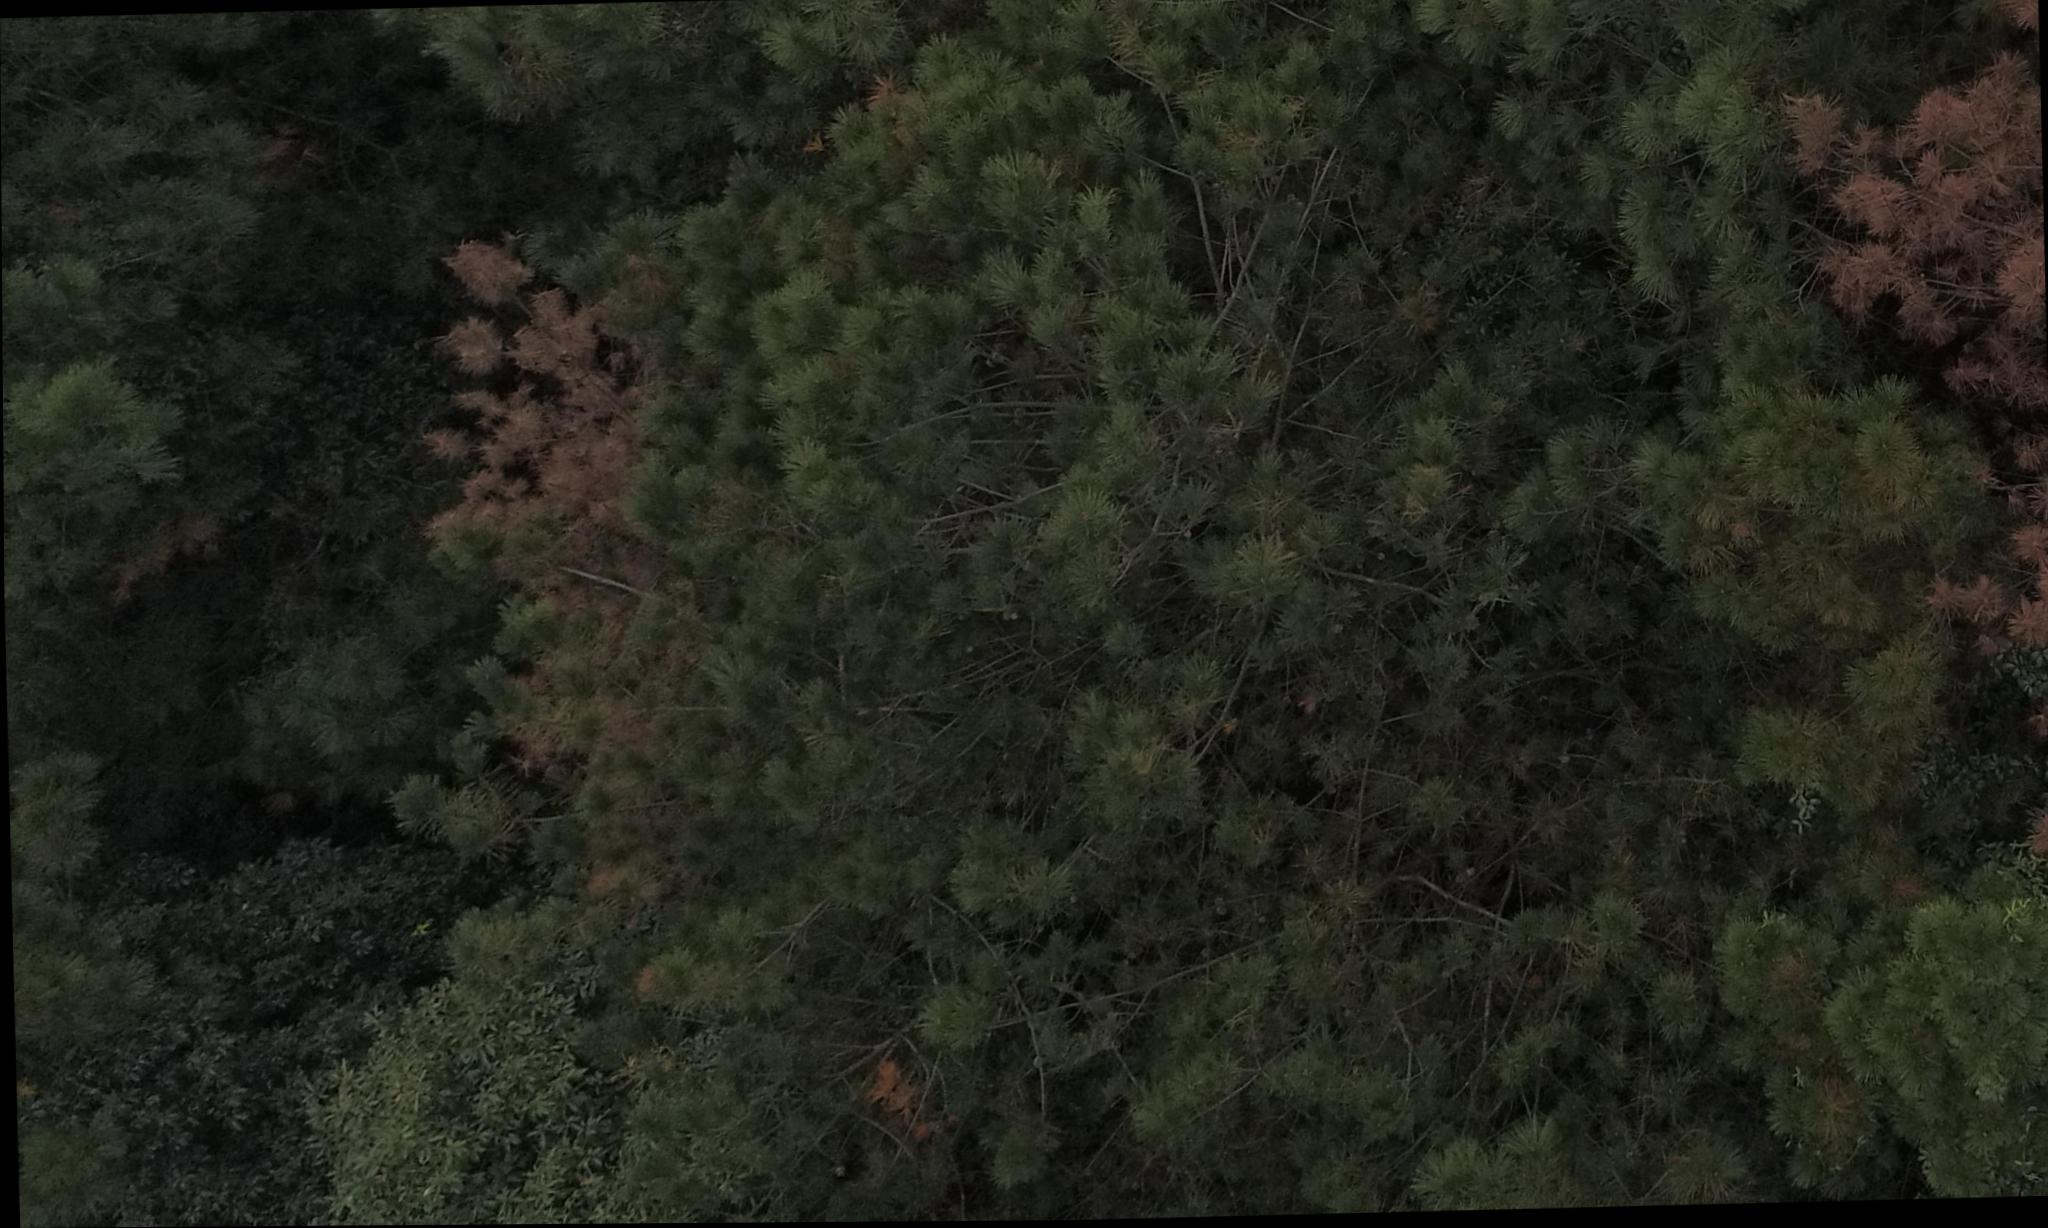heavy: (1795, 18, 2038, 653), (414, 219, 675, 729)
